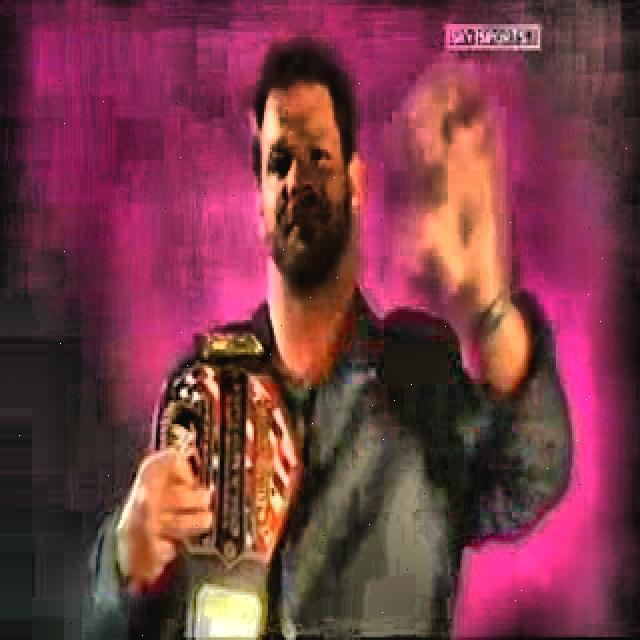L: (86, 44, 570, 638)
